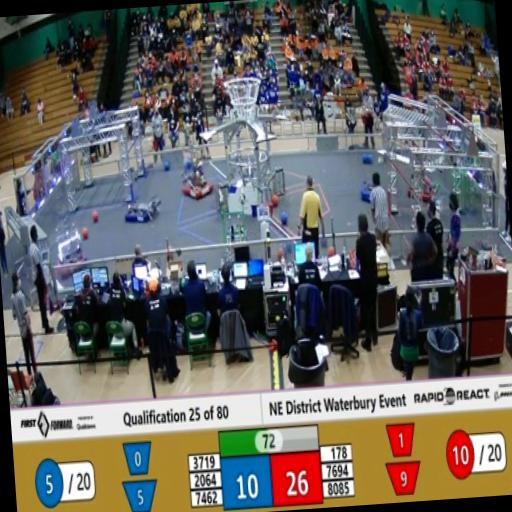robot: (170, 138, 216, 207), (214, 202, 254, 277), (48, 214, 90, 282), (352, 152, 394, 210), (401, 146, 440, 208), (121, 190, 165, 229)
